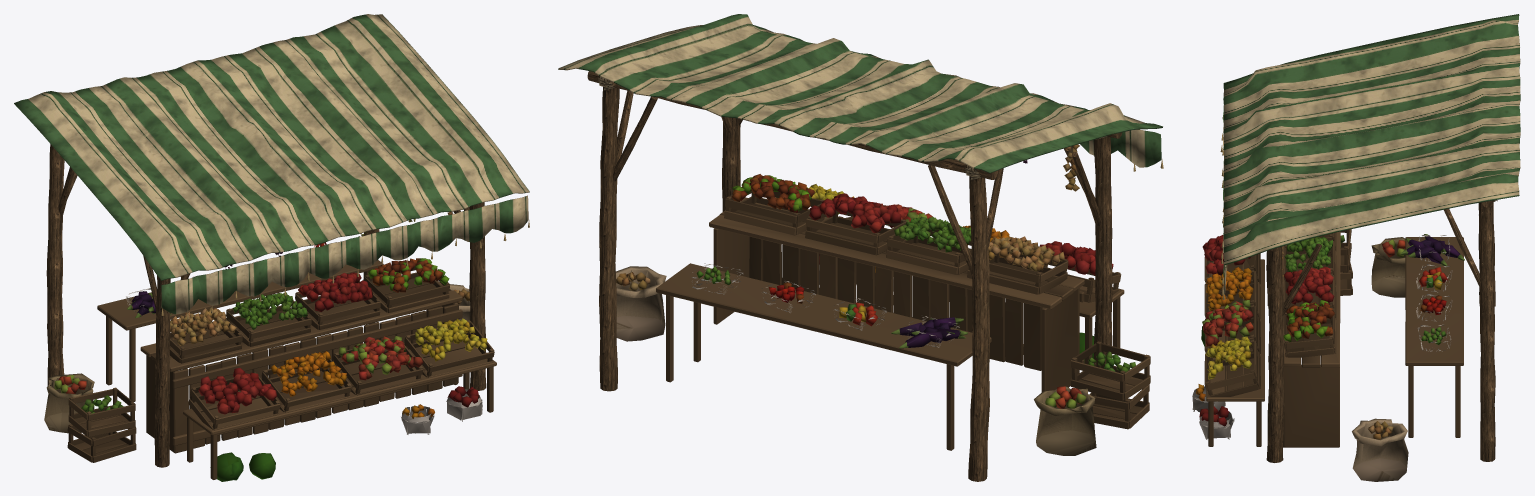
The model's file is village-kiosk-4-v2-lite.glb.
3 renders of one model, left to right at view 1: azimuth 30°, elevation 25°; view 2: azimuth 150°, elevation 25°; view 3: azimuth 270°, elevation 25°, orthographic. The views are drawn at different scales.
Visible parts, largest first — view 1: K4_Cloth, K4_Wood, K4_Props, K4_Sack; view 2: K4_Wood, K4_Cloth, K4_Props, K4_Sack; view 3: K4_Cloth, K4_Wood, K4_Props, K4_Sack.
Boxes of the visible parts, x1=… form: K4_Cloth: x1=14, y1=14, x2=529, y2=314; K4_Wood: x1=46, y1=144, x2=496, y2=479; K4_Props: x1=54, y1=211, x2=529, y2=481; K4_Sack: x1=44, y1=284, x2=470, y2=433; K4_Wood: x1=587, y1=71, x2=1150, y2=481; K4_Cloth: x1=558, y1=14, x2=1162, y2=173; K4_Props: x1=597, y1=76, x2=1163, y2=408; K4_Sack: x1=616, y1=266, x2=1096, y2=455; K4_Cloth: x1=1223, y1=14, x2=1520, y2=294; K4_Wood: x1=1204, y1=200, x2=1495, y2=462; K4_Props: x1=1192, y1=115, x2=1497, y2=439; K4_Sack: x1=1352, y1=237, x2=1408, y2=481.
Size of the model in its own units: 4.66 by 3.08 by 3.09.
4 materials, 4 textured.
